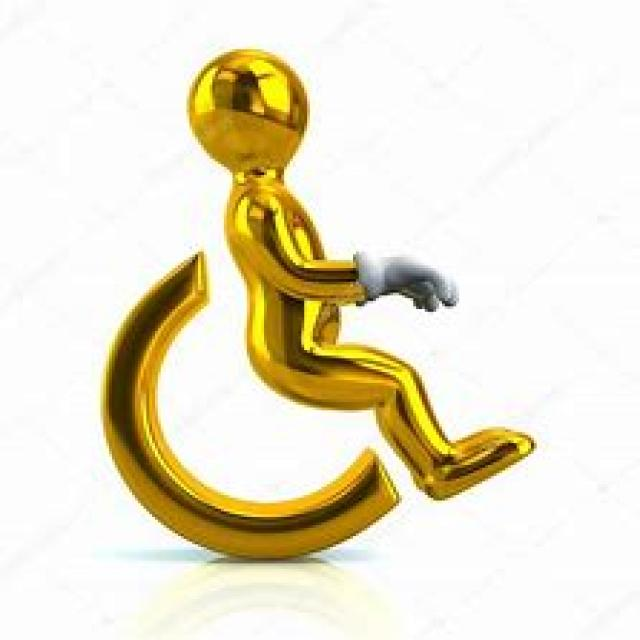car-handicap-placard: (99, 42, 542, 565)
